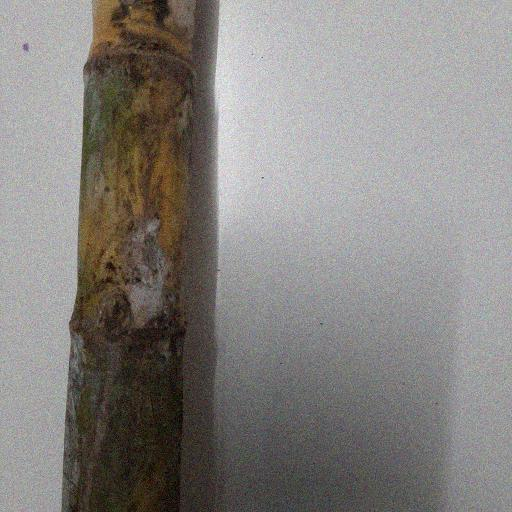Bud: (94, 291, 132, 342)
